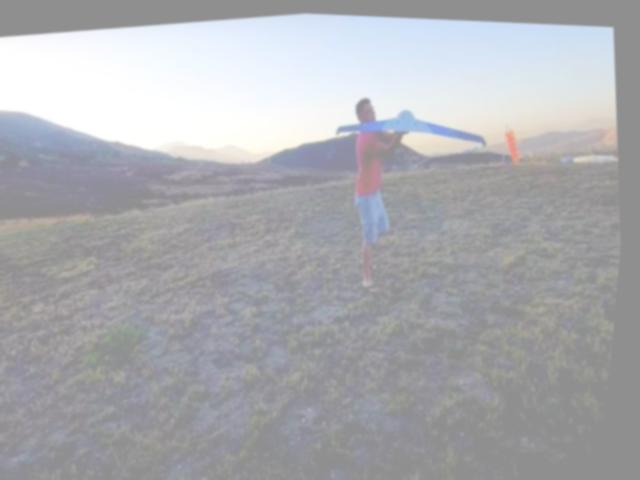iha: (334, 90, 497, 163)
